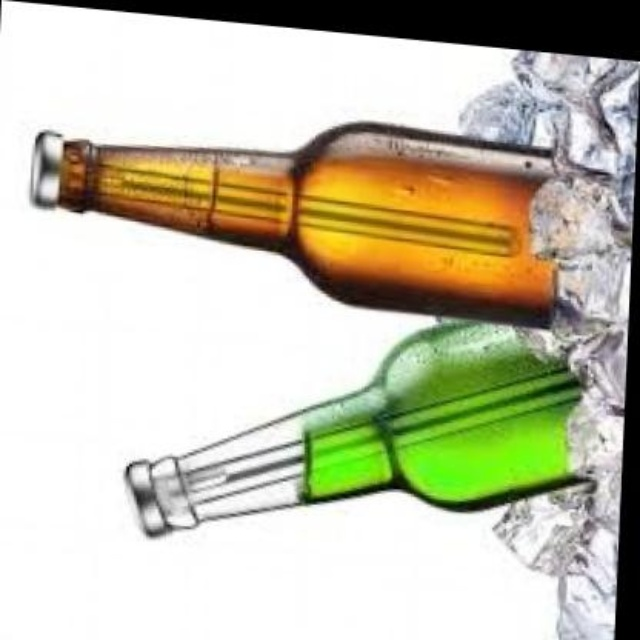trash: (32, 123, 555, 325), (126, 322, 578, 534)
